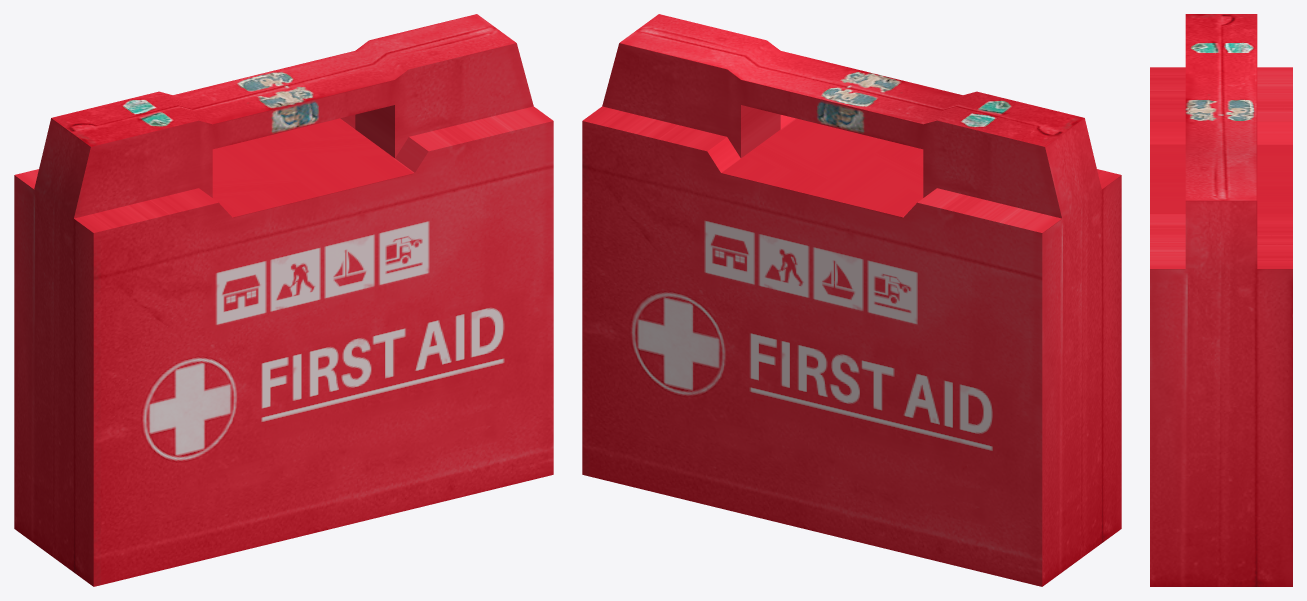
The model's file is FirstAid.gltf.
3 views of the same model, side by side, from view 1: azimuth 30°, elevation 25°; view 2: azimuth 150°, elevation 25°; view 3: azimuth 270°, elevation 25° (orthographic). The views are drawn at different scales.
Visible parts, largest first — view 1: FirstAid; view 2: FirstAid; view 3: FirstAid.
Part boxes in pixels (x1,y1,x2,y2): FirstAid: (14,14,553,586); FirstAid: (582,14,1121,586); FirstAid: (1150,14,1292,586).
Size of the model in its own units: 1.25 by 1.1 by 0.375.
1 material, 1 textured.
